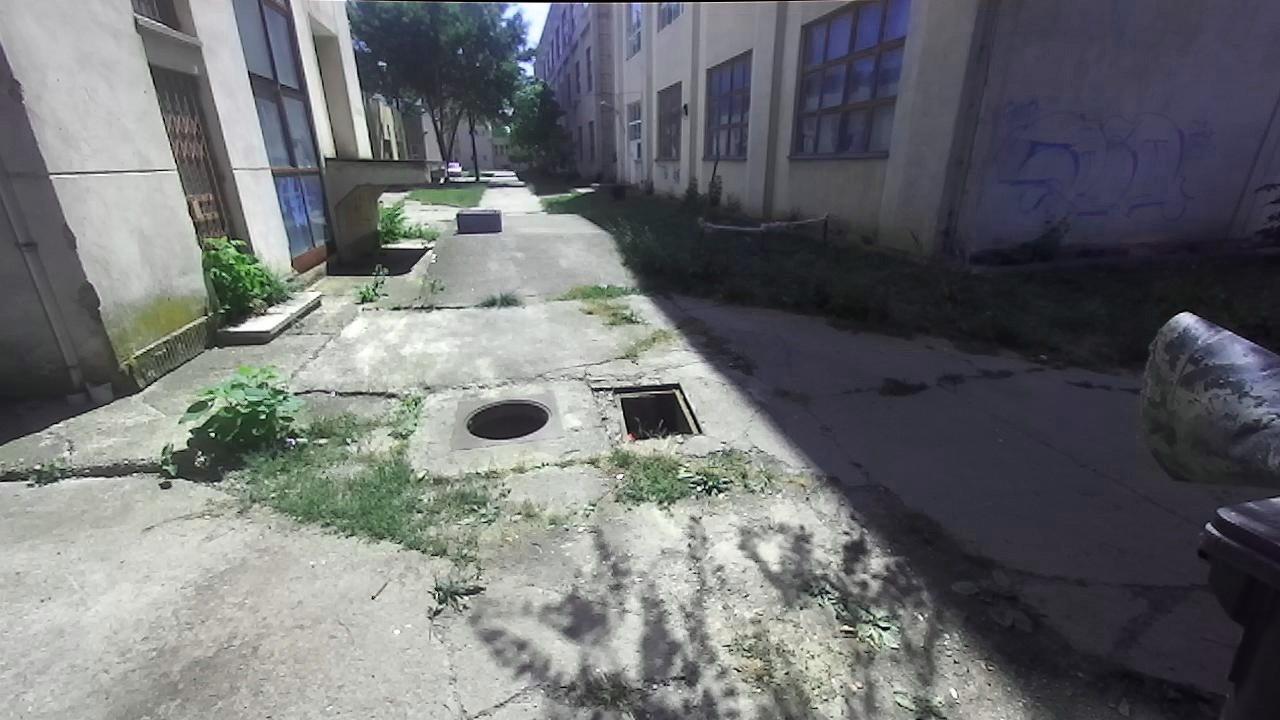drain: (609, 377, 709, 442), (462, 394, 558, 437)
